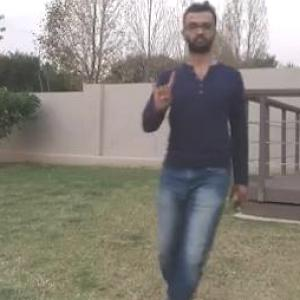takeoff-hand: (143, 61, 177, 108)
